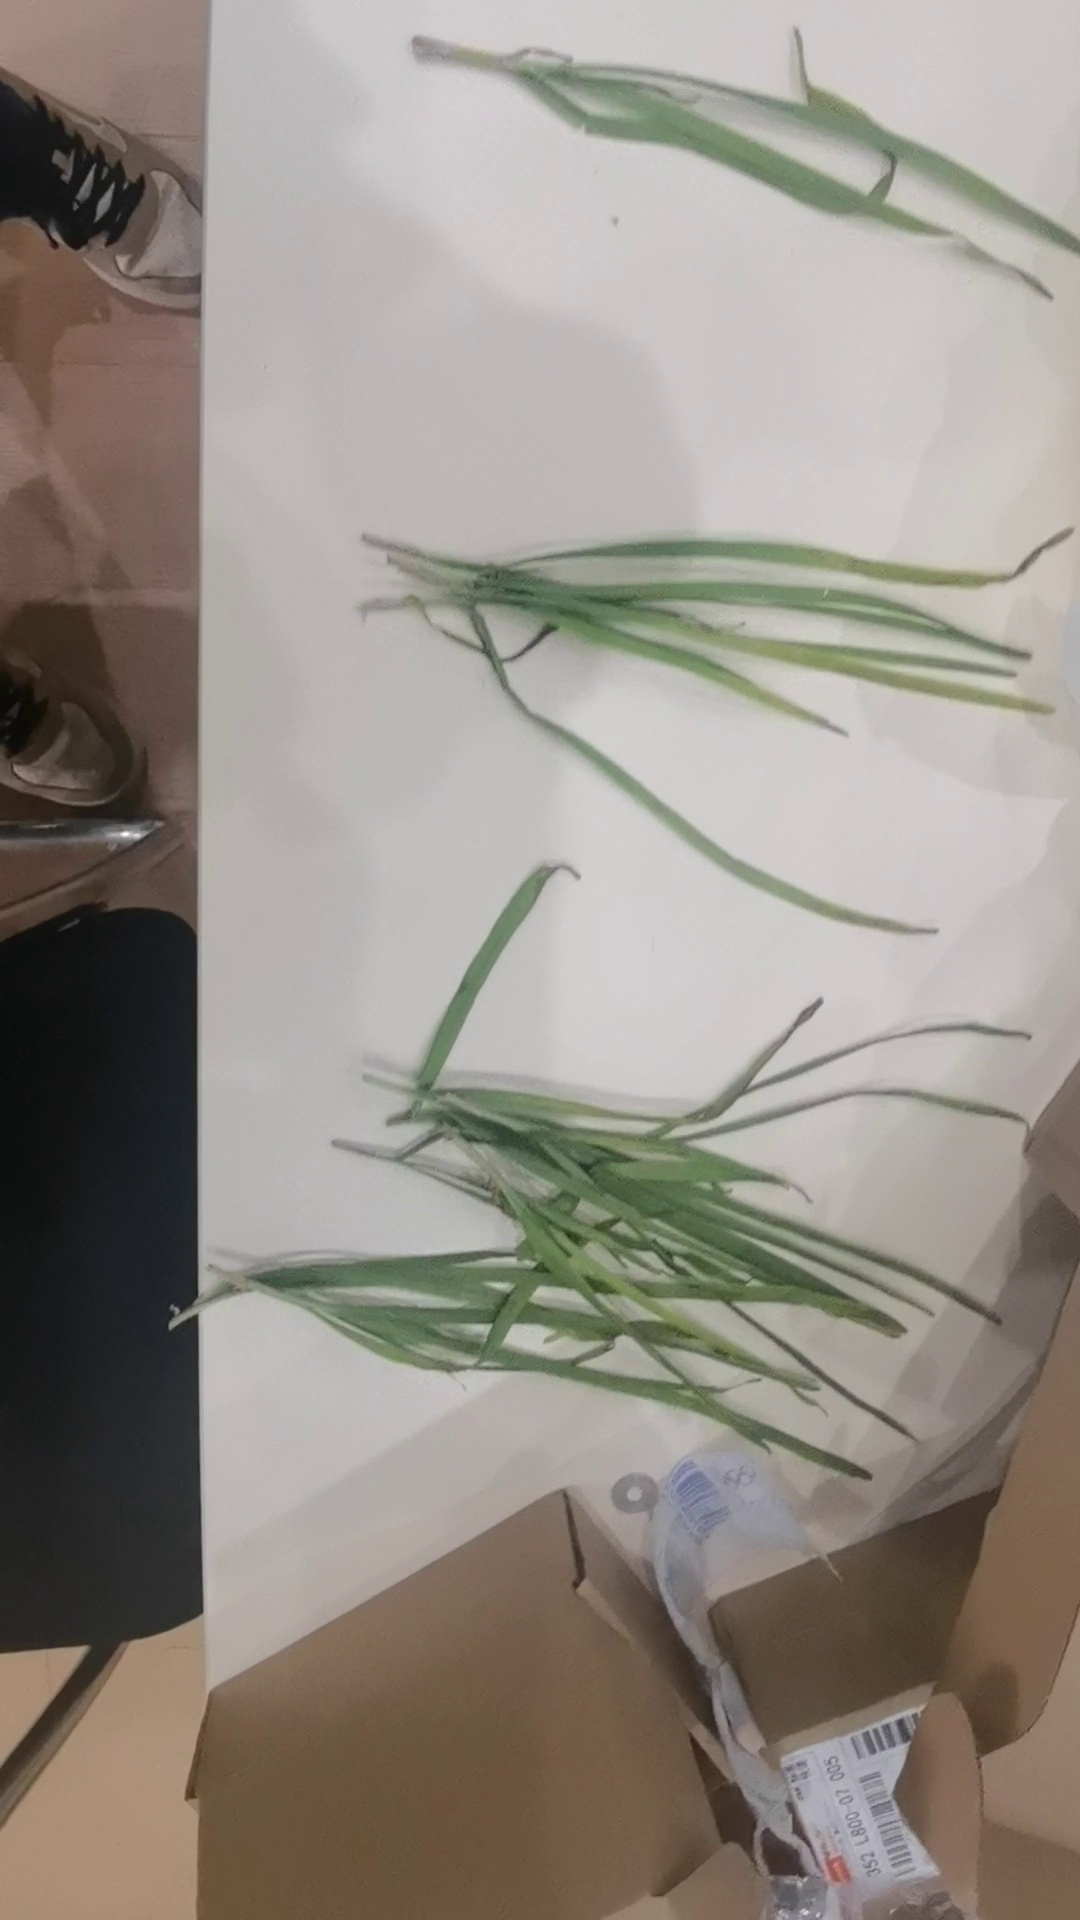chives: (193, 927, 1080, 1482), (305, 480, 1080, 939), (377, 4, 1080, 302)
